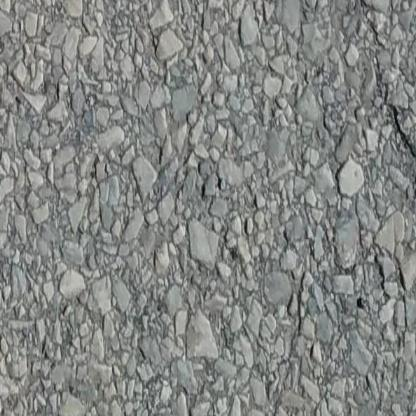Cracks: (352, 0, 416, 237)
